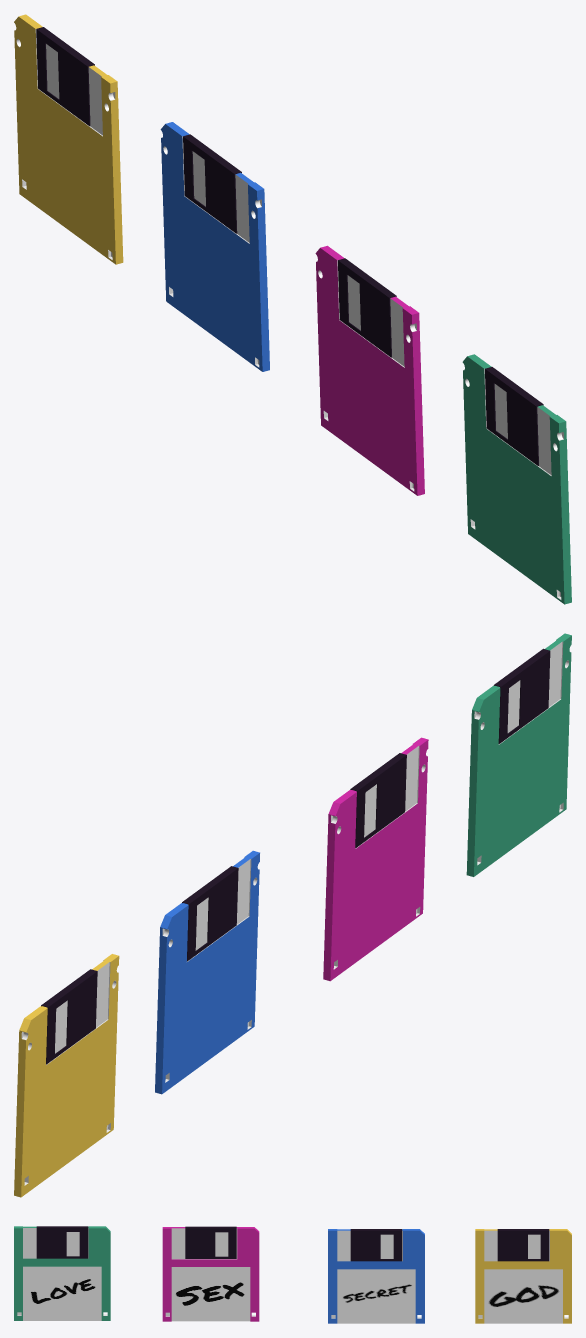
File: love_disc_model.glb
The picture shows the model from 3 angles, top to bottom: view 1: azimuth 30°, elevation 25°; view 2: azimuth 150°, elevation 25°; view 3: azimuth 270°, elevation 25°; orthographic projection. The views are drawn at different scales.
Visible parts, largest first — view 1: Cube_0.001, Cube_0, Cube_0.002, Cube_0.003; view 2: Cube_0.001, Cube_0, Cube_0.002, Cube_0.003; view 3: Cube_0.001, Cube_0.002, Cube_0.003, Cube_0.
Part boxes in pixels (x1,y1,x2,y2): Cube_0.001: [315, 245, 424, 495]; Cube_0: [462, 354, 571, 604]; Cube_0.002: [160, 122, 269, 371]; Cube_0.003: [14, 14, 123, 264]; Cube_0.001: [323, 737, 428, 981]; Cube_0: [466, 633, 571, 876]; Cube_0.002: [155, 850, 259, 1094]; Cube_0.003: [14, 954, 119, 1197]; Cube_0.001: [162, 1226, 259, 1321]; Cube_0.002: [328, 1229, 424, 1323]; Cube_0.003: [475, 1229, 571, 1323]; Cube_0: [14, 1226, 110, 1320].
Size of the model in its own units: 1.32 by 9.46 by 51.91.
Materials: 9 (4 with a texture image).
